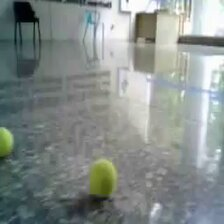tennis: (87, 159, 115, 195), (1, 128, 16, 156)
